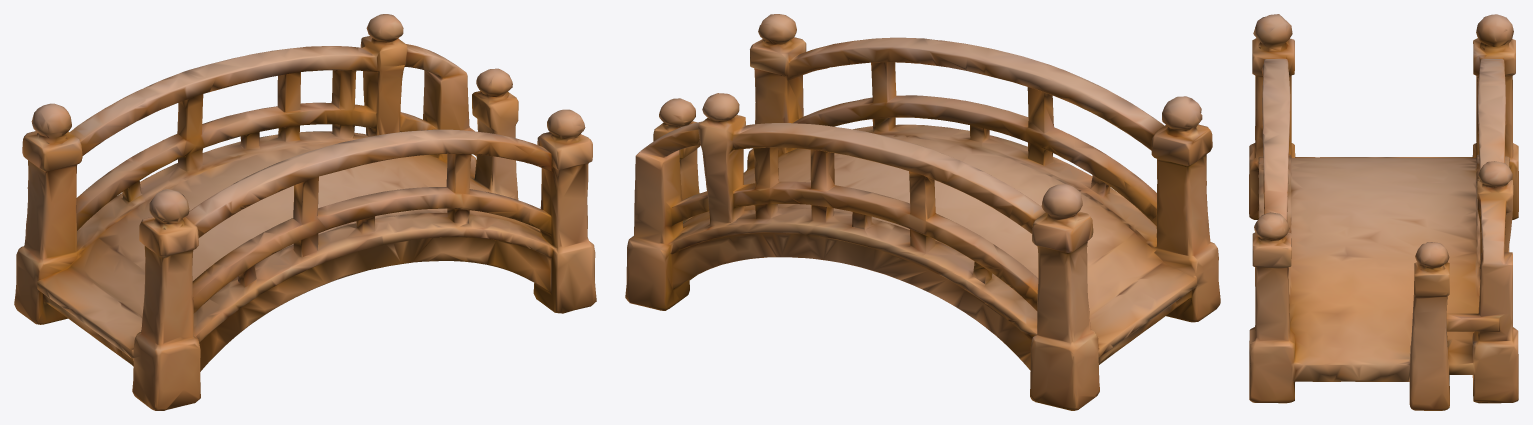
Rendered from bridge-high.glb.
3 renders of one model, left to right at view 1: azimuth 30°, elevation 25°; view 2: azimuth 150°, elevation 25°; view 3: azimuth 270°, elevation 25°, orthographic. The views are drawn at different scales.
Visible parts, largest first — view 1: bridge-high; view 2: bridge-high; view 3: bridge-high.
Part boxes in pixels (<box>): bridge-high: <box>14,14,596,410</box>; bridge-high: <box>625,14,1220,410</box>; bridge-high: <box>1249,14,1518,410</box>.
Bounding box in the file's own units: 1 × 0.462 × 0.547.
